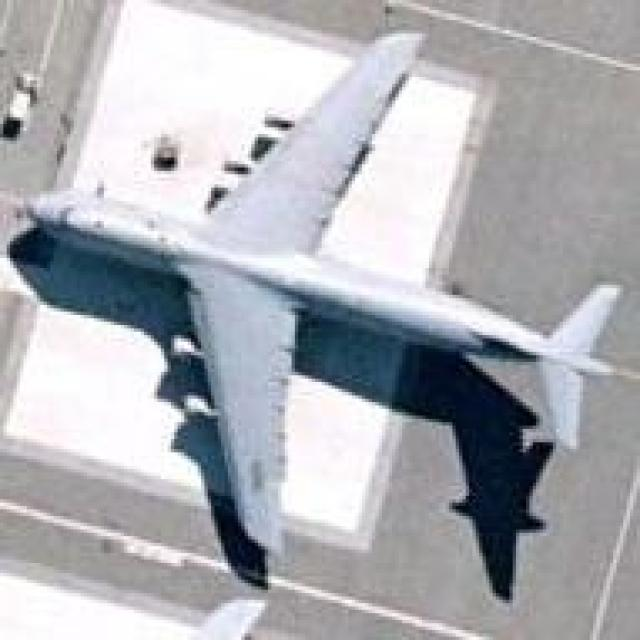C-5_TopDown: (3, 17, 637, 600)
